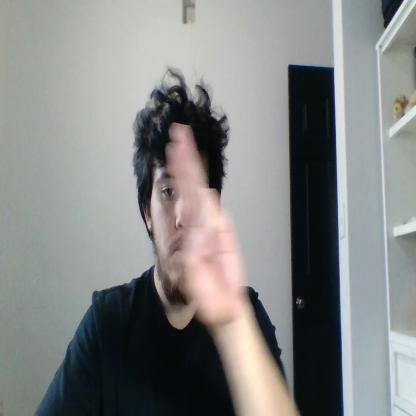U: (166, 122, 246, 323)
